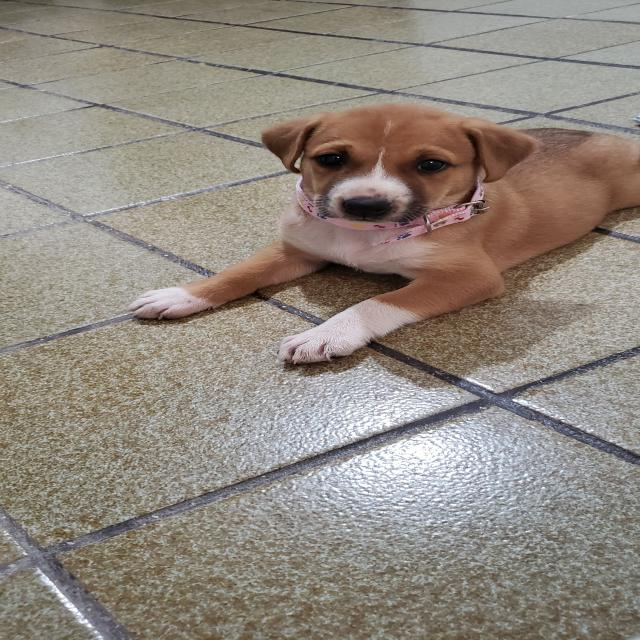laying down: (124, 95, 640, 370)
